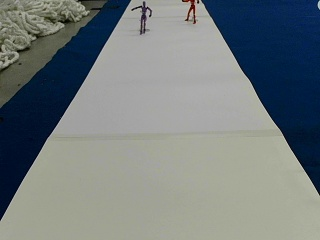pedestrian: (131, 1, 151, 33), (182, 0, 199, 22)
